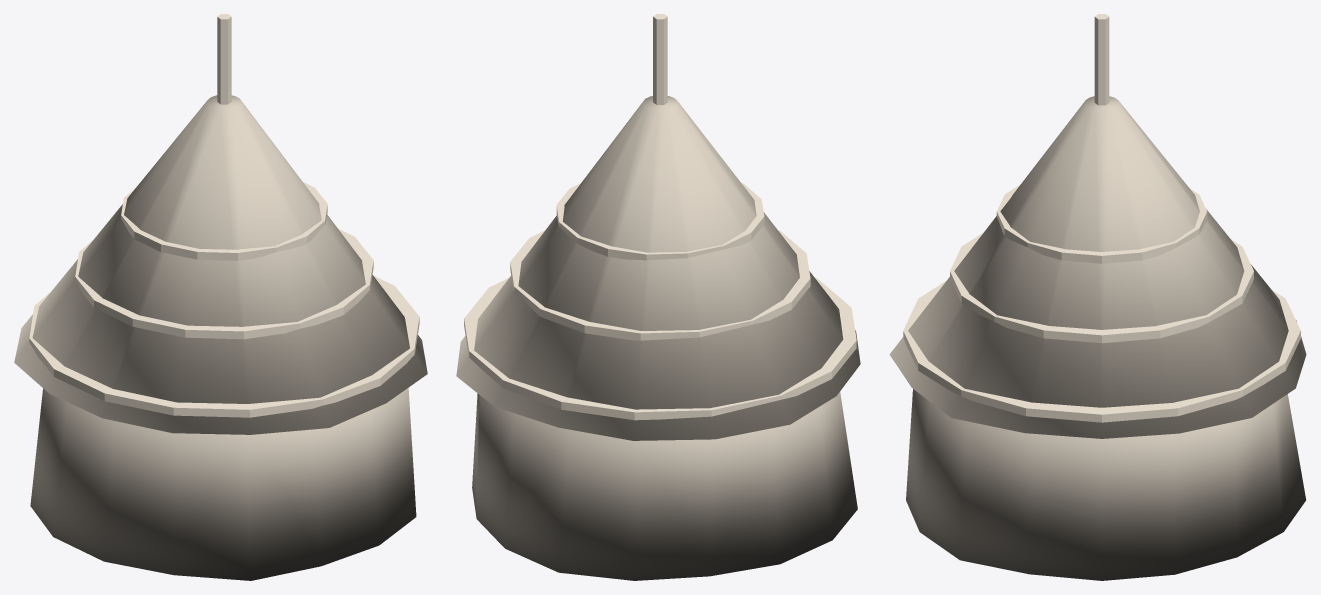
The model's file is SM_VK_Prop_Haystack.fbx.
3 views of the same model, side by side, from view 1: azimuth 30°, elevation 25°; view 2: azimuth 150°, elevation 25°; view 3: azimuth 270°, elevation 25° (orthographic).
Visible parts, largest first — view 1: SM_VK_Prop_Haystack.001; view 2: SM_VK_Prop_Haystack.001; view 3: SM_VK_Prop_Haystack.001.
Boxes of the visible parts, x1,y1,x2,y2 form: SM_VK_Prop_Haystack.001: (14,14,427,580); SM_VK_Prop_Haystack.001: (456,14,860,580); SM_VK_Prop_Haystack.001: (889,14,1306,580).
Size of the model in its own units: 2.76 by 3.65 by 2.85.
